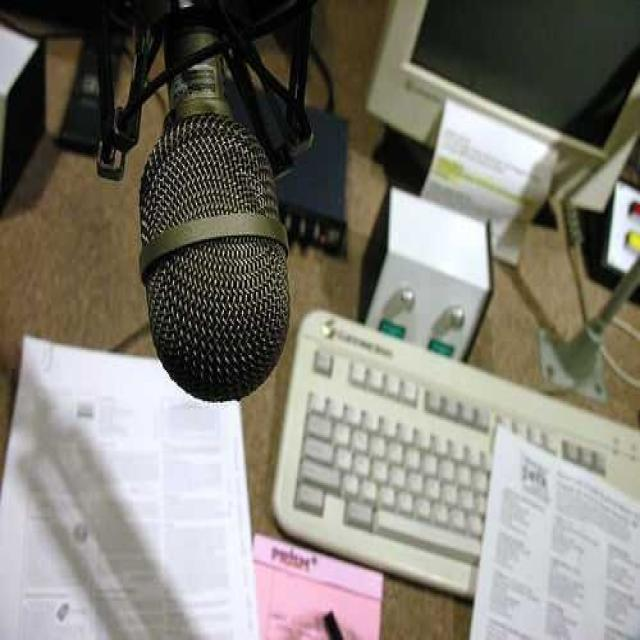microphone: (133, 15, 293, 406)
